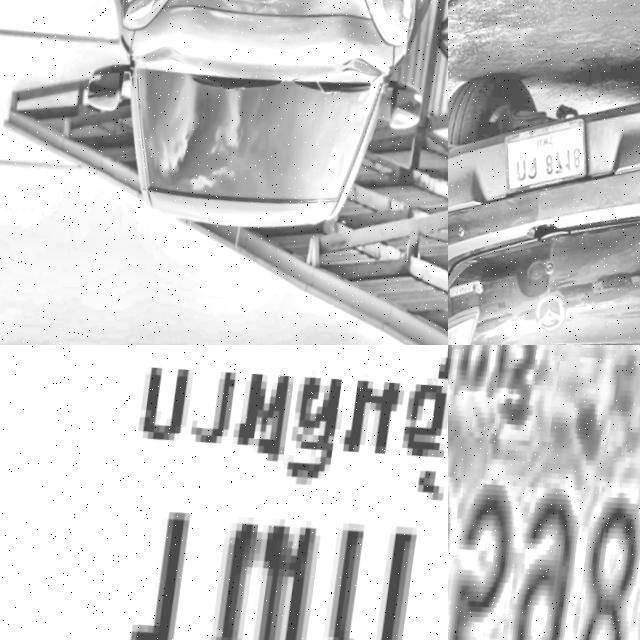license-plate: (0, 345, 448, 640), (448, 345, 640, 640), (495, 105, 598, 207)
